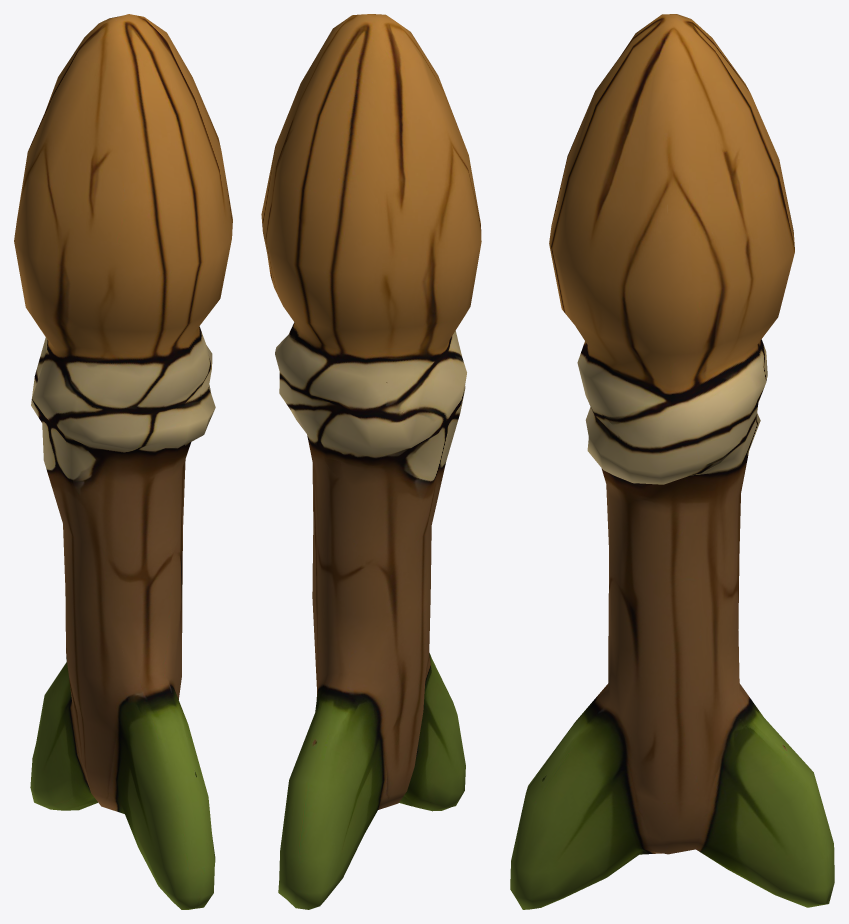
Rendered from ammo-tw1-lv1-400.fbx.
The picture shows the model from 3 angles, left to right: view 1: azimuth 30°, elevation 25°; view 2: azimuth 150°, elevation 25°; view 3: azimuth 270°, elevation 25°; orthographic projection. The views are drawn at different scales.
Parts seen in each view (by area): view 1: tripo_node_707eee4a; view 2: tripo_node_707eee4a; view 3: tripo_node_707eee4a.
Part boxes in pixels (x1,y1,x2,y2): tripo_node_707eee4a: [14, 14, 232, 909]; tripo_node_707eee4a: [261, 14, 481, 909]; tripo_node_707eee4a: [510, 14, 834, 909].
Size of the model in its own units: 0.2427 by 0.9705 by 0.3207.
